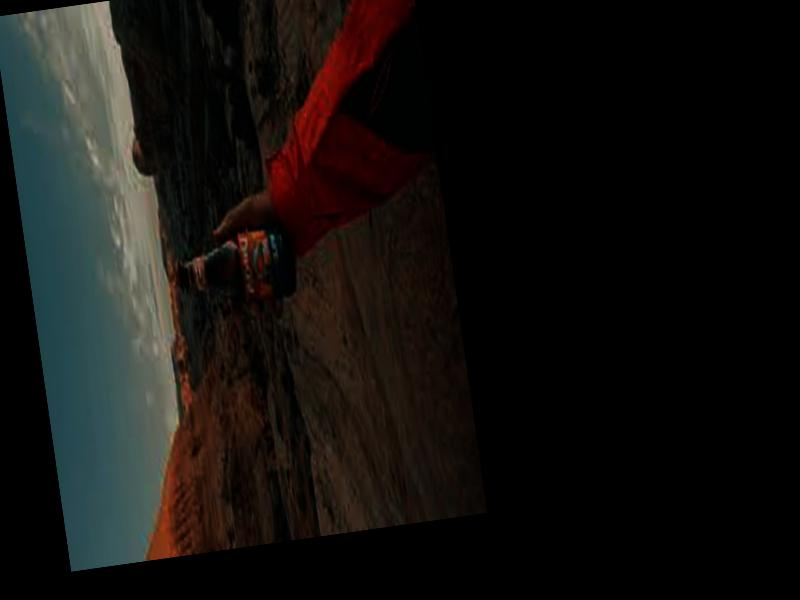Beer: (171, 217, 298, 314)
